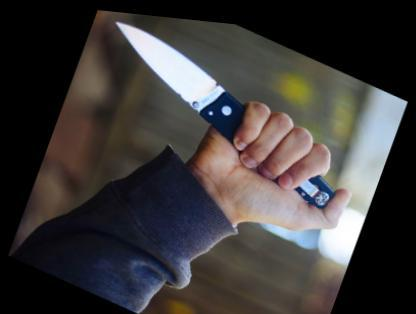knife: (73, 6, 378, 232)
